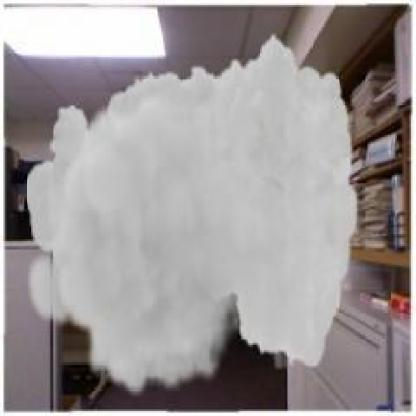Smoke: (24, 32, 359, 398)
